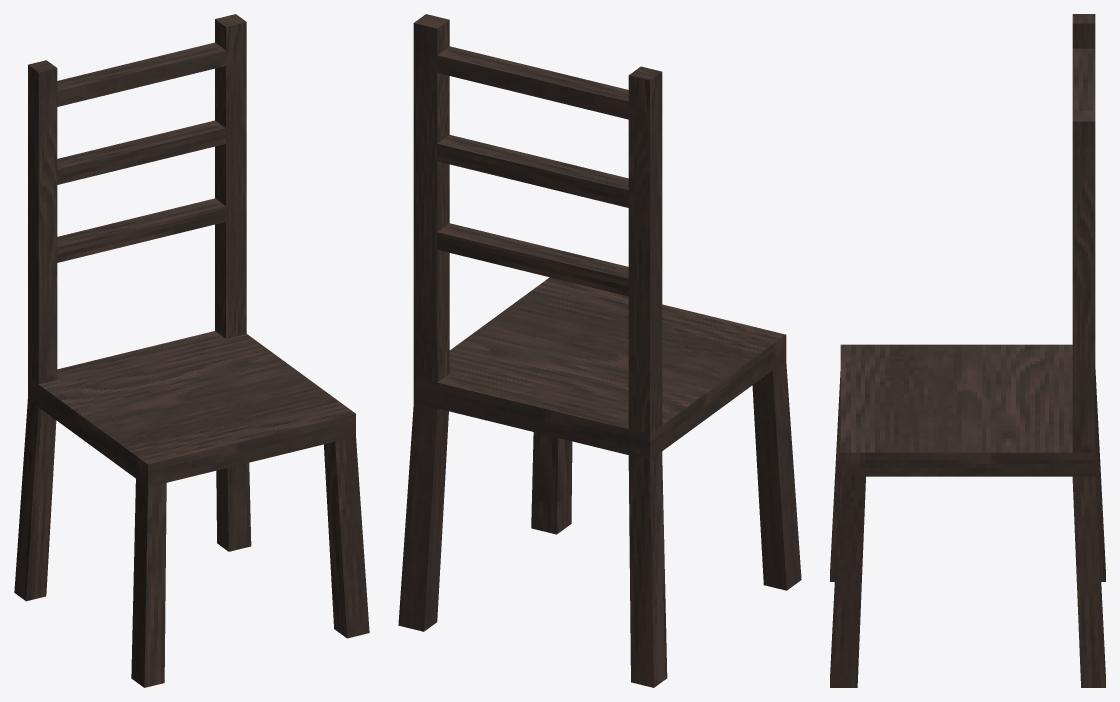
The model's file is Chair.glb.
The picture shows the model from 3 angles, left to right: view 1: azimuth 30°, elevation 25°; view 2: azimuth 150°, elevation 25°; view 3: azimuth 270°, elevation 25°; orthographic projection. The views are drawn at different scales.
Visible parts, largest first — view 1: Chair; view 2: Chair; view 3: Chair.
Boxes of the visible parts, x1,y1,x2,y2 form: Chair: [14, 14, 369, 687]; Chair: [398, 14, 801, 687]; Chair: [830, 14, 1105, 687].
Bounding box in the file's own units: 0.6047 × 1.36 × 0.6047.
Materials: 1 (1 with a texture image).
